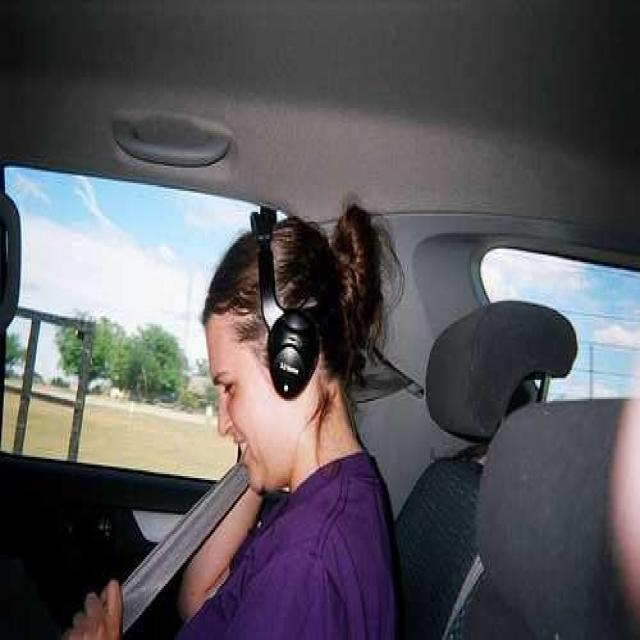seatbelt: (71, 440, 282, 624)
